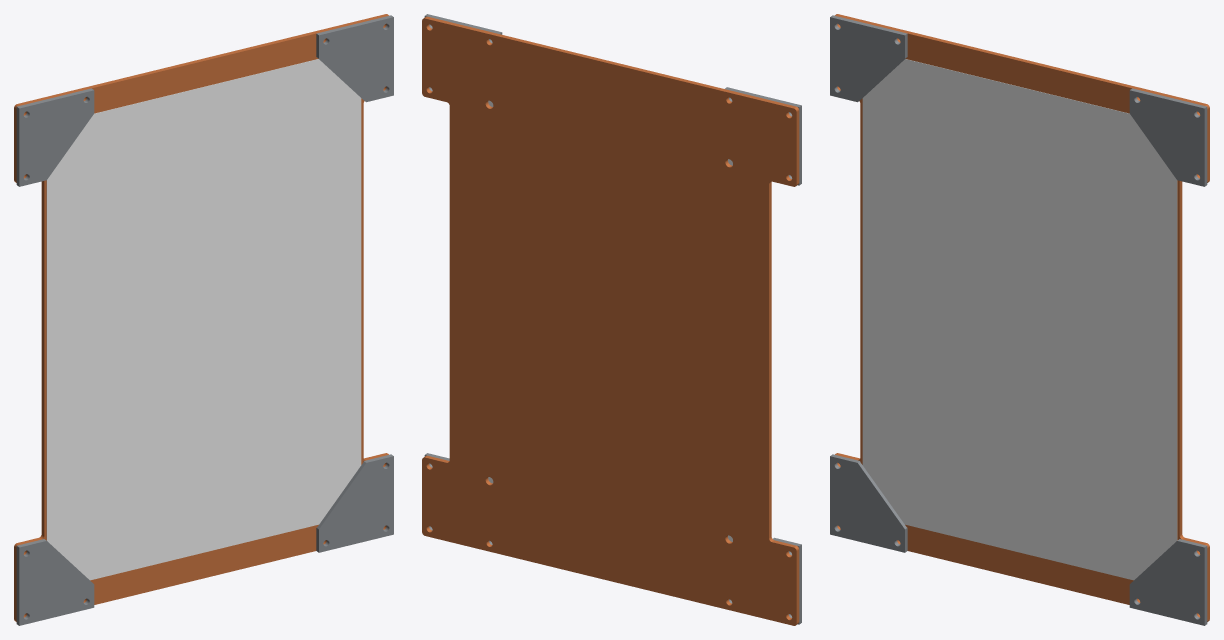
File: Feuille.gltf
3 renders of one model, left to right at view 1: azimuth 30°, elevation 25°; view 2: azimuth 150°, elevation 25°; view 3: azimuth 330°, elevation 25°, orthographic.
Visible parts, largest first — view 1: Part 1 (×3), Part 4, Part 2, Part 3; view 2: Part 1; view 3: Part 1 (×3), Part 3, Part 2, Part 4.
Boxes of the visible parts, x1,y1,x2,y2 form: Part 1 (×3): [14, 14, 388, 625]; Part 4: [16, 88, 94, 186]; Part 2: [316, 454, 393, 552]; Part 3: [316, 15, 393, 102]; Part 1: [422, 16, 799, 625]; Part 1 (×3): [830, 14, 1209, 621]; Part 3: [1129, 88, 1207, 186]; Part 2: [1129, 539, 1207, 625]; Part 4: [830, 15, 907, 102].
Bounding box in the file's own units: 0.25 × 0.33 × 0.006.
